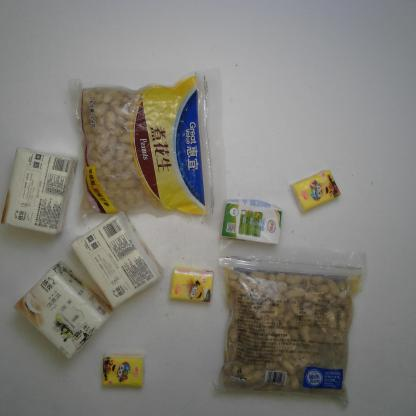Dried Food: (210, 239, 370, 408), (66, 66, 230, 228)
Milk: (220, 198, 285, 246)
Tissue: (12, 260, 115, 360), (69, 210, 164, 309), (0, 145, 80, 237), (289, 167, 344, 214), (168, 264, 214, 302), (101, 351, 146, 388)
